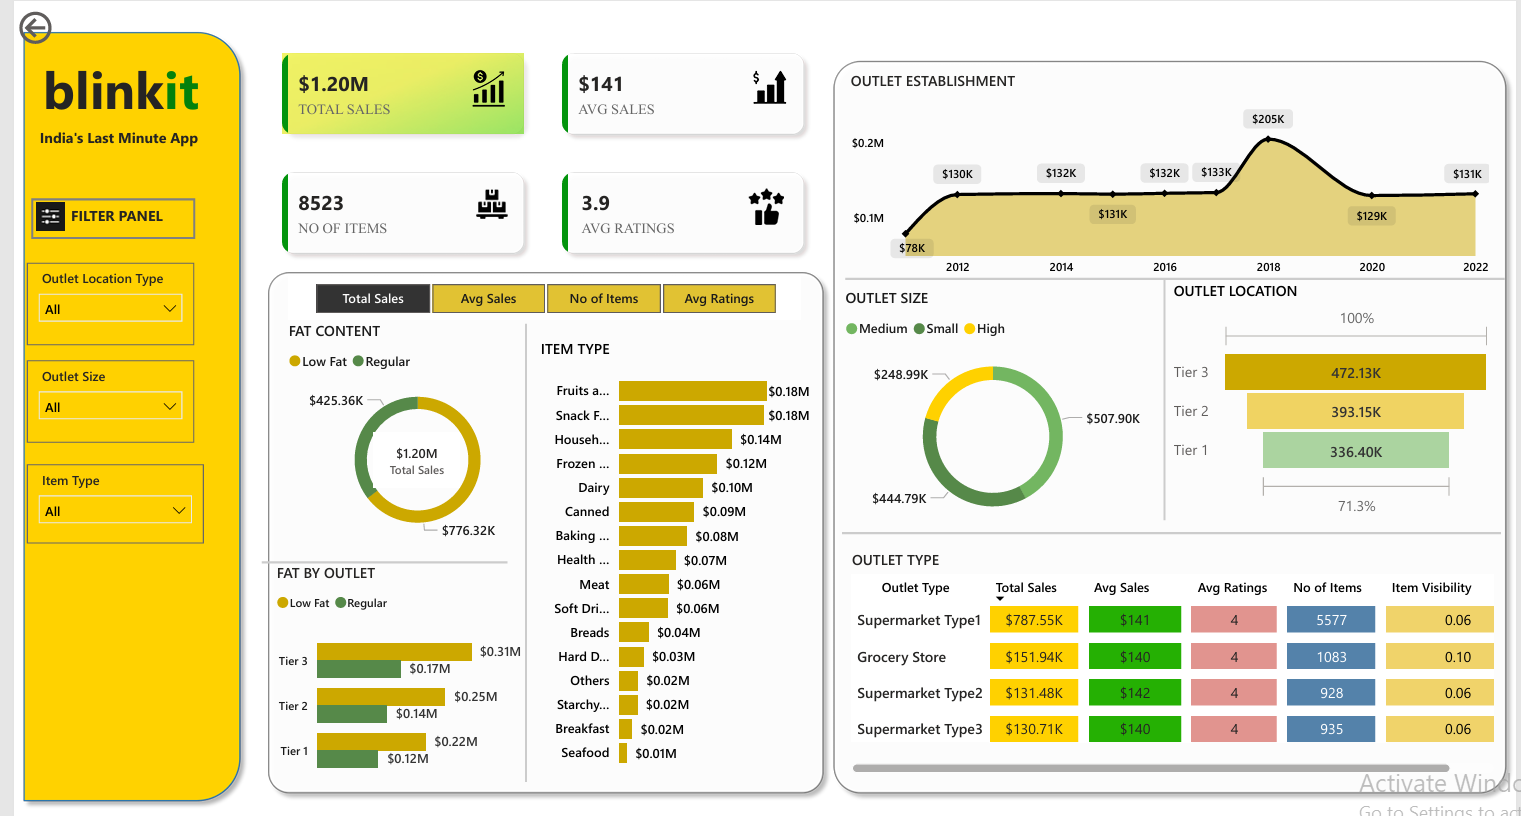

What the dashboard file says about the page in this screenshot:
{"tool":"powerbi","page":{"name":"Page 1","canvas":[1400,750],"ordinal":0},"visuals":[{"type":"shape","box":[0,15.3,220,735.1],"z":0},{"type":"textbox","box":[21.6,39.4,159,73.8],"z":1000},{"type":"textbox","box":[19.1,108.1,171.7,30.5],"z":2000},{"type":"cardVisual","fields":{"Data":["BlinkIT Grocery Data.Total Sales","BlinkIT Grocery Data.Avg Sales","BlinkIT Grocery Data.No of Items","BlinkIT Grocery Data.Avg Ratings"]},"box":[226.4,20.3,535.4,235.3],"z":3000},{"type":"shape","box":[227.7,239.1,535.4,503.6],"z":4000},{"type":"donutChart","title":"FAT CONTENT","fields":{"Y":["BlinkIT Grocery Data.Total Sales"],"Category":["BlinkIT Grocery Data.Item Fat Content"]},"box":[255.6,292.5,240.4,208.6],"z":5000},{"type":"slicer","fields":{"Values":["Metrices.Metrices"]},"box":[255.6,251.8,478.2,40.7],"z":6000},{"type":"cardVisual","fields":{"Data":["BlinkIT Grocery Data.Total Sales"]},"box":[334.8,396.8,81.8,52.1],"z":7000},{"type":"clusteredBarChart","title":"FAT BY OUTLET","fields":{"Y":["BlinkIT Grocery Data.Total Sales"],"Category":["BlinkIT Grocery Data.Outlet Location Type"],"Series":["BlinkIT Grocery Data.Item Fat Content"]},"box":[240.4,518.9,237.8,213.7],"z":8000},{"type":"shape","box":[231.5,508.7,228.9,19.1],"z":9000},{"type":"shape","box":[469.3,296.3,16.5,427.3],"z":10000},{"type":"barChart","title":"ITEM TYPE","fields":{"Y":["BlinkIT Grocery Data.Total Sales"],"Category":["BlinkIT Grocery Data.Item Type"]},"box":[485.8,310.3,260.7,409.5],"z":11000},{"type":"shape","box":[755.5,42,644.8,700.8],"z":12000},{"type":"lineChart","title":"OUTLET ESTABLISHMENT","fields":{"Category":["BlinkIT Grocery Data.Outlet Establishment Year"],"Y":["BlinkIT Grocery Data.Total Sales"]},"box":[774.5,59.8,604.1,199.7],"z":13000},{"type":"shape","box":[774.5,244.2,614.3,20.3],"z":14000},{"type":"donutChart","title":"OUTLET SIZE","fields":{"Y":["BlinkIT Grocery Data.Total Sales"],"Category":["BlinkIT Grocery Data.Outlet Size"]},"box":[774.5,263.3,274.7,225.1],"z":15000},{"type":"shape","box":[1065.8,254.4,12.7,225.1],"z":16000},{"type":"funnel","title":"OUTLET LOCATION","fields":{"Y":["Sum(BlinkIT Grocery Data.Sales)"],"Category":["BlinkIT Grocery Data.Outlet Location Type"]},"box":[1075.9,255.6,306.5,225.1],"z":17000},{"type":"shape","box":[772,480.7,614.3,20.3],"z":18000},{"type":"pivotTable","title":"OUTLET TYPE","fields":{"Rows":["BlinkIT Grocery Data.Outlet Type"],"Values":["BlinkIT Grocery Data.Total Sales","BlinkIT Grocery Data.Avg Sales","BlinkIT Grocery Data.Avg Ratings","BlinkIT Grocery Data.No of Items","Avg(BlinkIT Grocery Data.Item Visibility)"]},"box":[775.8,501.1,607.9,218.8],"z":19000},{"type":"actionButton","box":[0,0,100,40],"z":20000},{"type":"slicer","fields":{"Values":["BlinkIT Grocery Data.Outlet Location Type"]},"box":[12.4,239.3,156.3,76.9],"z":21000},{"type":"slicer","fields":{"Values":["BlinkIT Grocery Data.Outlet Size"]},"box":[12.4,329.9,156.3,76.9],"z":22000},{"type":"slicer","fields":{"Values":["BlinkIT Grocery Data.Item Type"]},"box":[12.4,426.6,164.9,74.4],"z":23000},{"type":"textbox","box":[16.1,178.6,152.5,38.4],"z":24000},{"type":"image","box":[21.1,176.1,26,40.9],"z":25000}]}

Visuals, with their boxes on the page's 1400x750 design canvas (x1, y1, x2, y2). These are canvas units, not pixel positions in the 1521x816 screenshot, which may show the page scaled, cropped or inside an application window:
shape: box(0, 15, 220, 750)
textbox: box(22, 39, 181, 113)
textbox: box(19, 108, 191, 139)
cardVisual - BlinkIT Grocery Data.Total Sales x BlinkIT Grocery Data.Avg Sales: box(226, 20, 762, 256)
shape: box(228, 239, 763, 743)
"FAT CONTENT" donutChart: box(256, 292, 496, 501)
slicer - Metrices.Metrices: box(256, 252, 734, 292)
cardVisual - BlinkIT Grocery Data.Total Sales: box(335, 397, 417, 449)
"FAT BY OUTLET" clusteredBarChart: box(240, 519, 478, 733)
shape: box(232, 509, 460, 528)
shape: box(469, 296, 486, 724)
"ITEM TYPE" barChart: box(486, 310, 746, 720)
shape: box(756, 42, 1400, 743)
"OUTLET ESTABLISHMENT" lineChart: box(774, 60, 1379, 260)
shape: box(774, 244, 1389, 264)
"OUTLET SIZE" donutChart: box(774, 263, 1049, 488)
shape: box(1066, 254, 1078, 480)
"OUTLET LOCATION" funnel: box(1076, 256, 1382, 481)
shape: box(772, 481, 1386, 501)
"OUTLET TYPE" pivotTable: box(776, 501, 1384, 720)
actionButton: box(0, 0, 100, 40)
slicer - BlinkIT Grocery Data.Outlet Location Type: box(12, 239, 169, 316)
slicer - BlinkIT Grocery Data.Outlet Size: box(12, 330, 169, 407)
slicer - BlinkIT Grocery Data.Item Type: box(12, 427, 177, 501)
textbox: box(16, 179, 169, 217)
image: box(21, 176, 47, 217)
